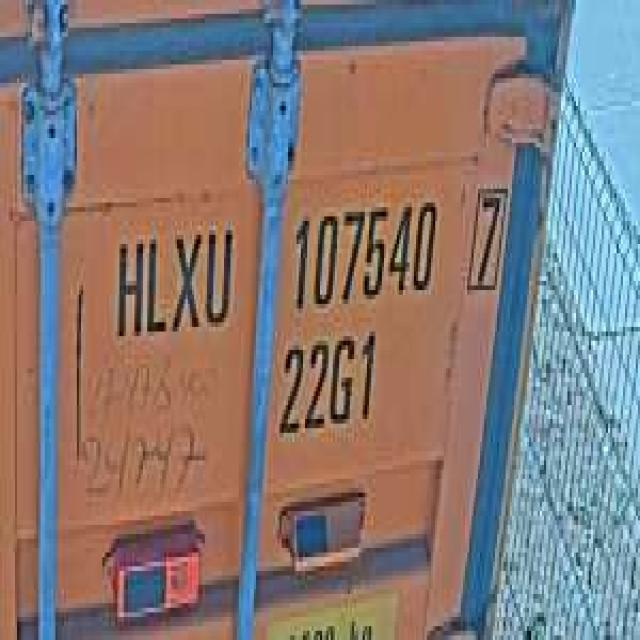dv: (463, 170, 510, 304)
owner: (109, 207, 237, 341)
serial: (286, 184, 441, 313)
size: (273, 322, 378, 438)
